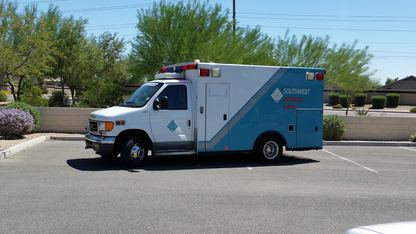ambulance: (85, 60, 326, 168)
